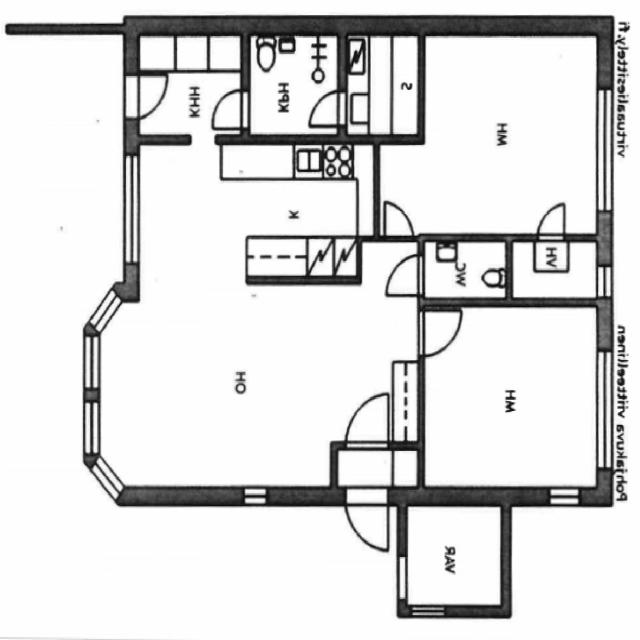door: (345, 487, 388, 559), (346, 390, 388, 451), (123, 74, 174, 118), (418, 310, 462, 356), (385, 256, 424, 296), (210, 91, 249, 129), (309, 92, 346, 127), (384, 198, 413, 242), (538, 203, 565, 242)
